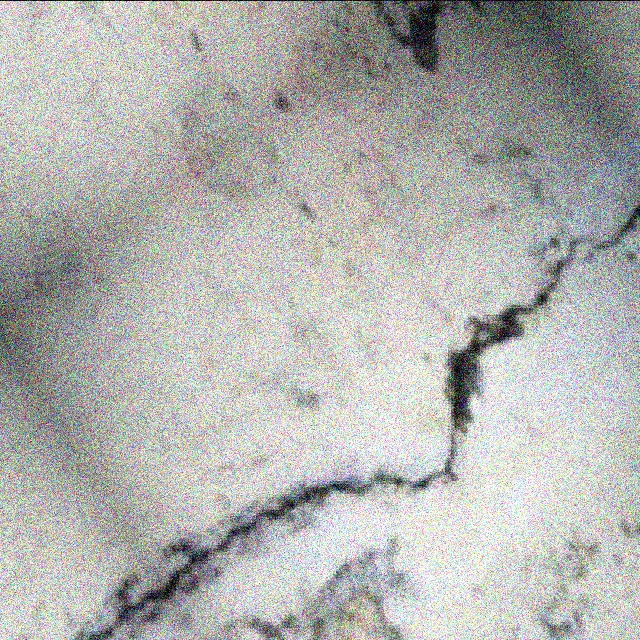SurfaceCrack: (62, 204, 640, 640)
